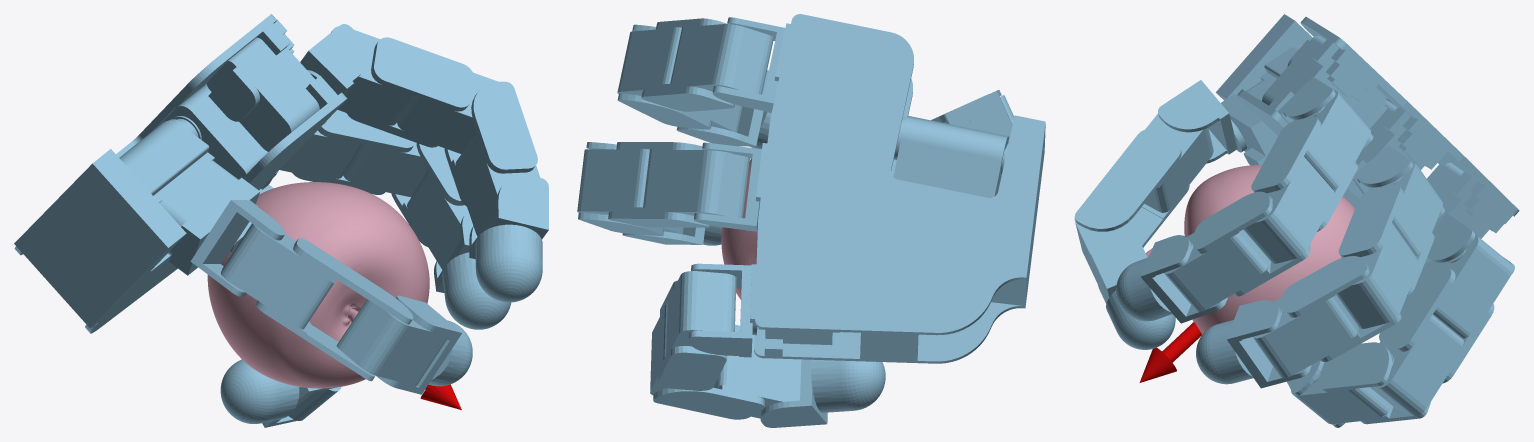
The picture shows the model from 3 angles, left to right: view 1: azimuth 30°, elevation 25°; view 2: azimuth 150°, elevation 25°; view 3: azimuth 270°, elevation 25°; orthographic projection. The views are drawn at different scales.
Visible parts, largest first — view 1: world, apple.stl; view 2: world, apple.stl; view 3: world, apple.stl.
Boxes of the visible parts, box(x1,y1,x2,y2) form: world: box(14, 14, 548, 427); apple.stl: box(207, 182, 429, 388); world: box(577, 14, 1045, 427); apple.stl: box(721, 148, 761, 299); world: box(1074, 14, 1519, 427); apple.stl: box(1146, 165, 1354, 334).
Bounding box in the file's own units: 0.1824 × 0.162 × 0.1735.
